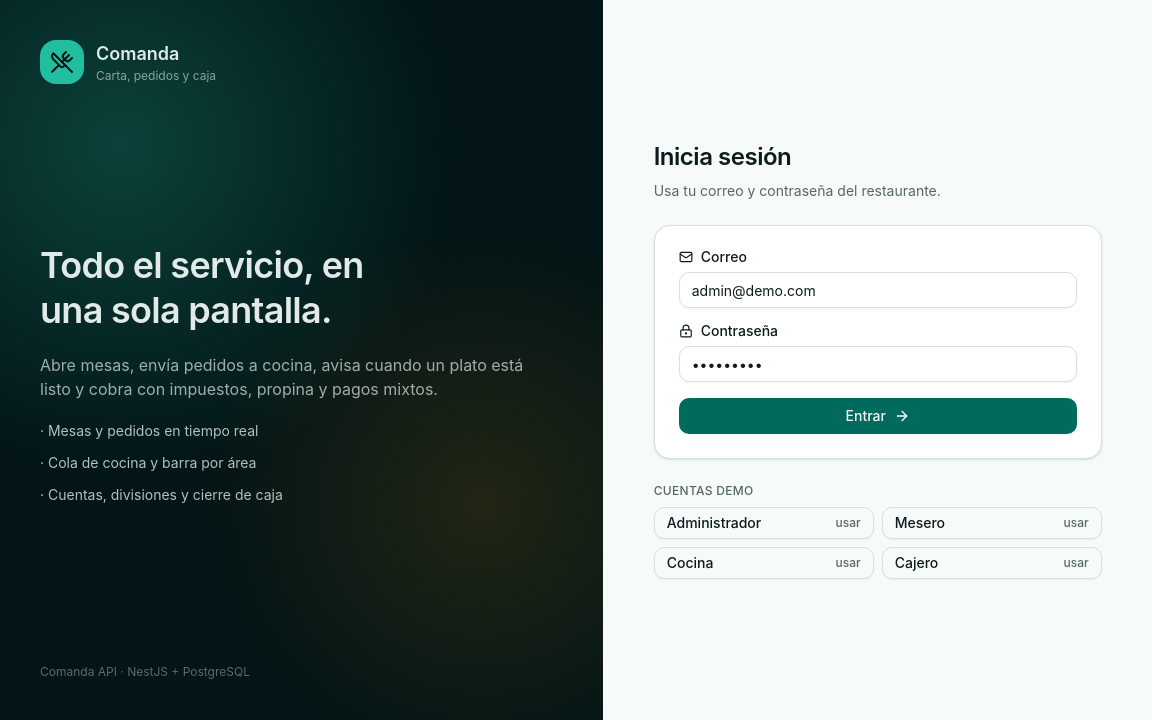
LoginPage › muestra los errores de validación con campos vacíos
This screenshot has width=1152, height=720.
Clear the field labelled "Correo" at (878, 290), box [679,272,1077,308]
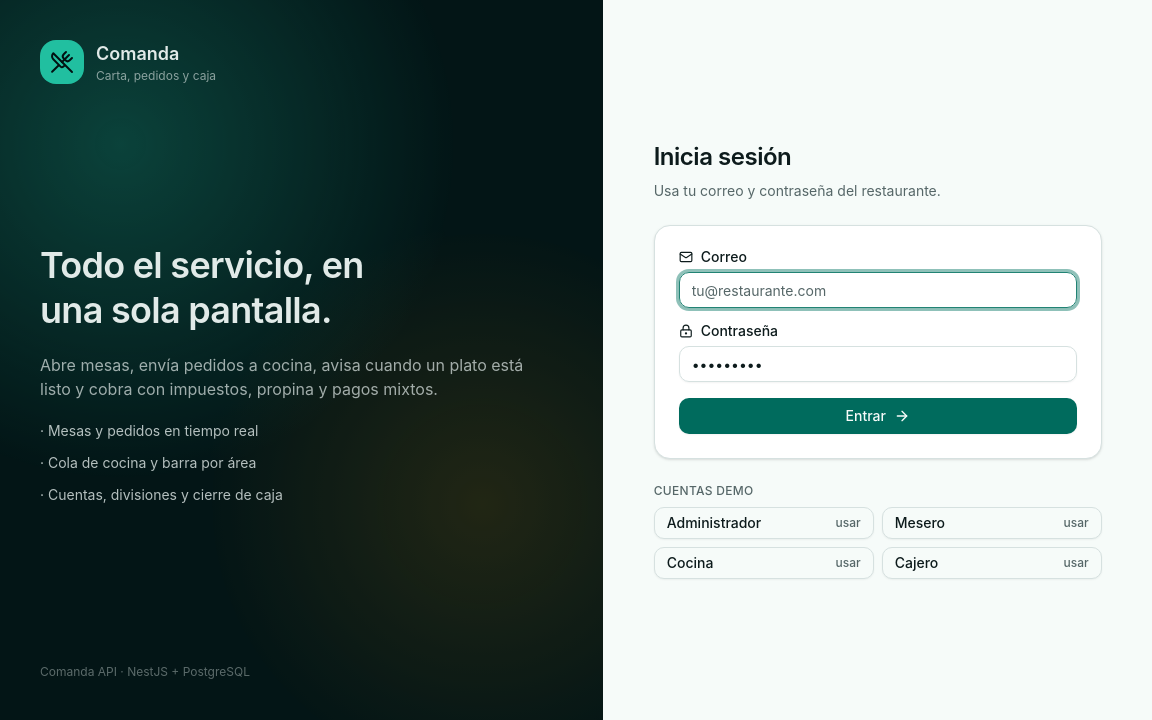
Clear the password field labelled "Contraseña" at (878, 364), box [679,346,1077,382]
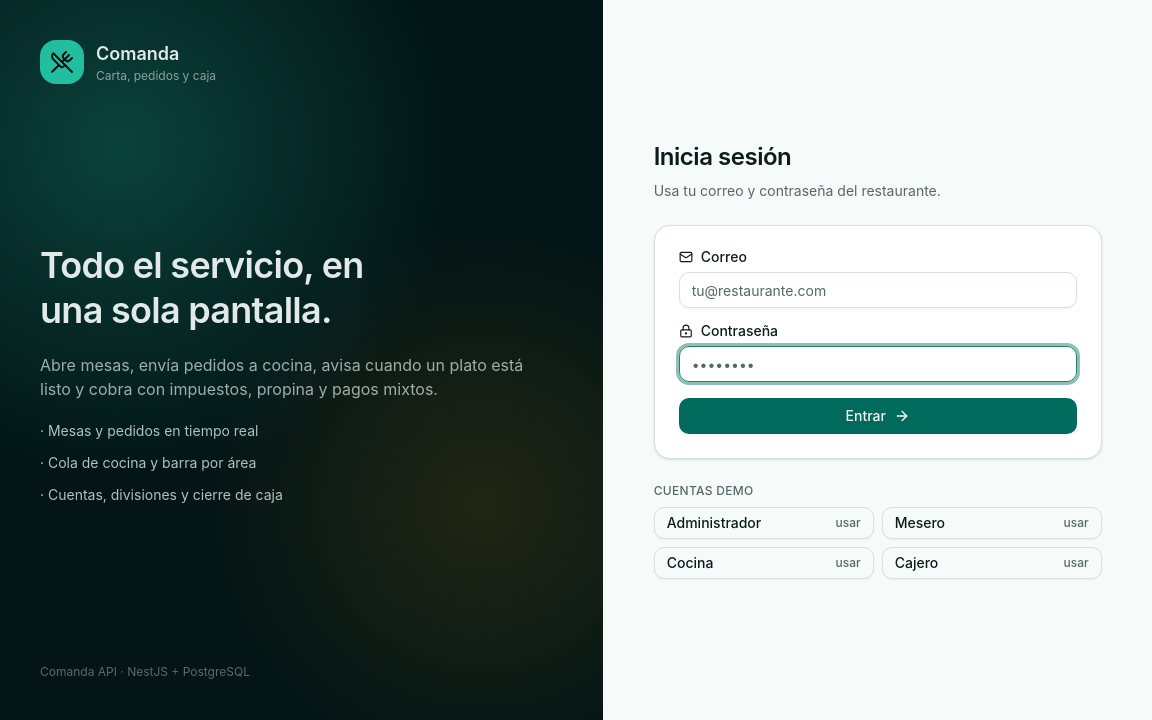
Click the button "Entrar" at (878, 416), box [679,398,1077,434]
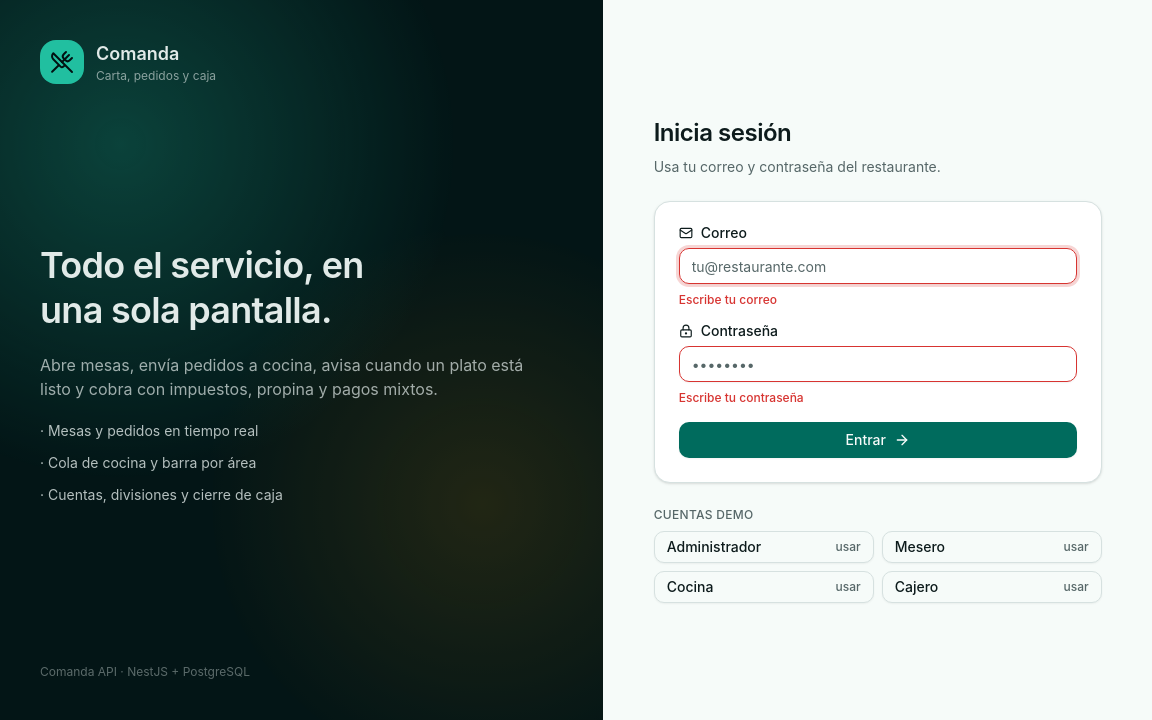
Expected: the text "Escribe tu correo" is shown, [679,292,777,307]
Expected: the text "Escribe tu contraseña" is shown, [679,390,804,405]
